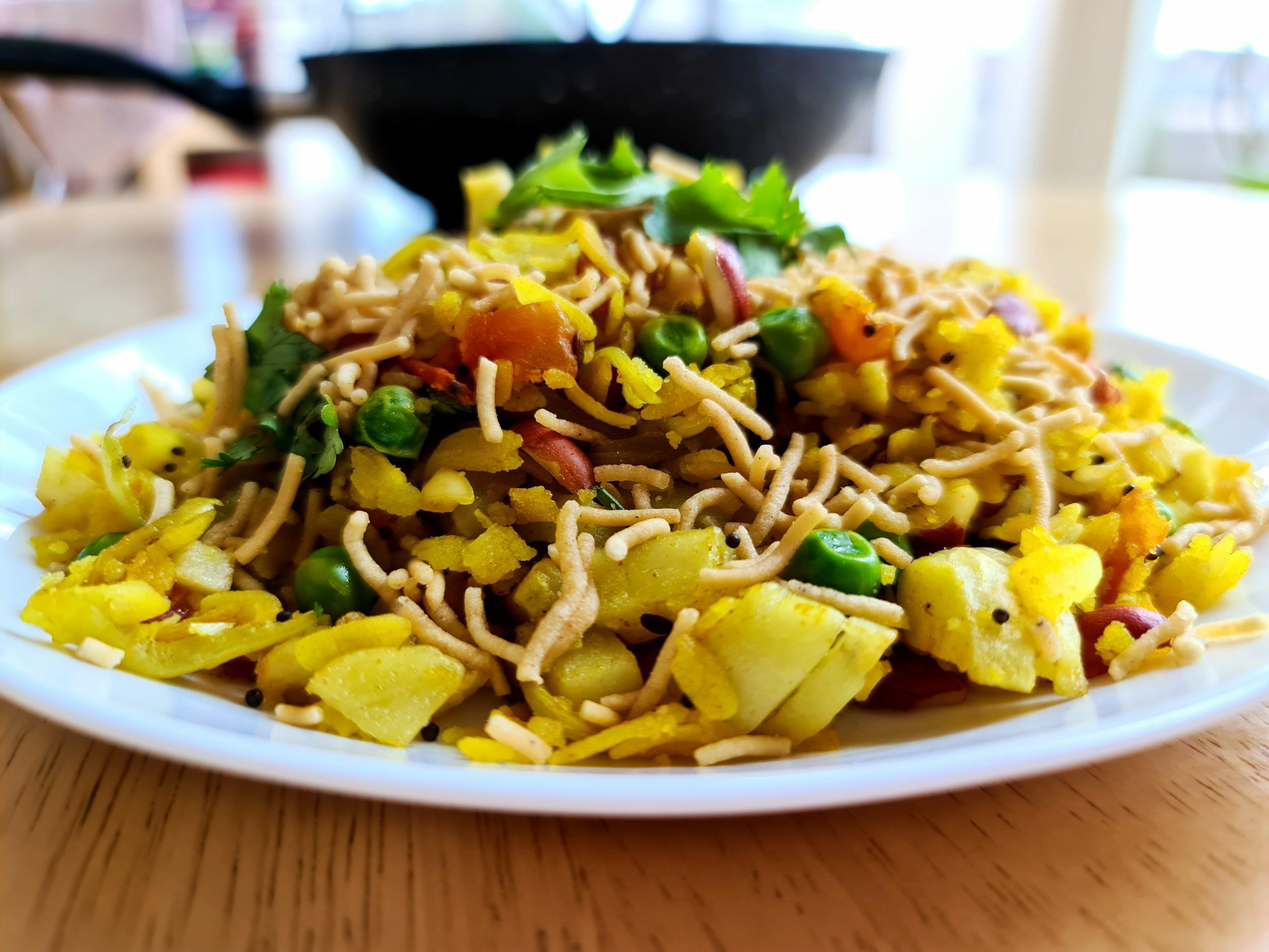Poha: (48, 117, 1264, 749)
